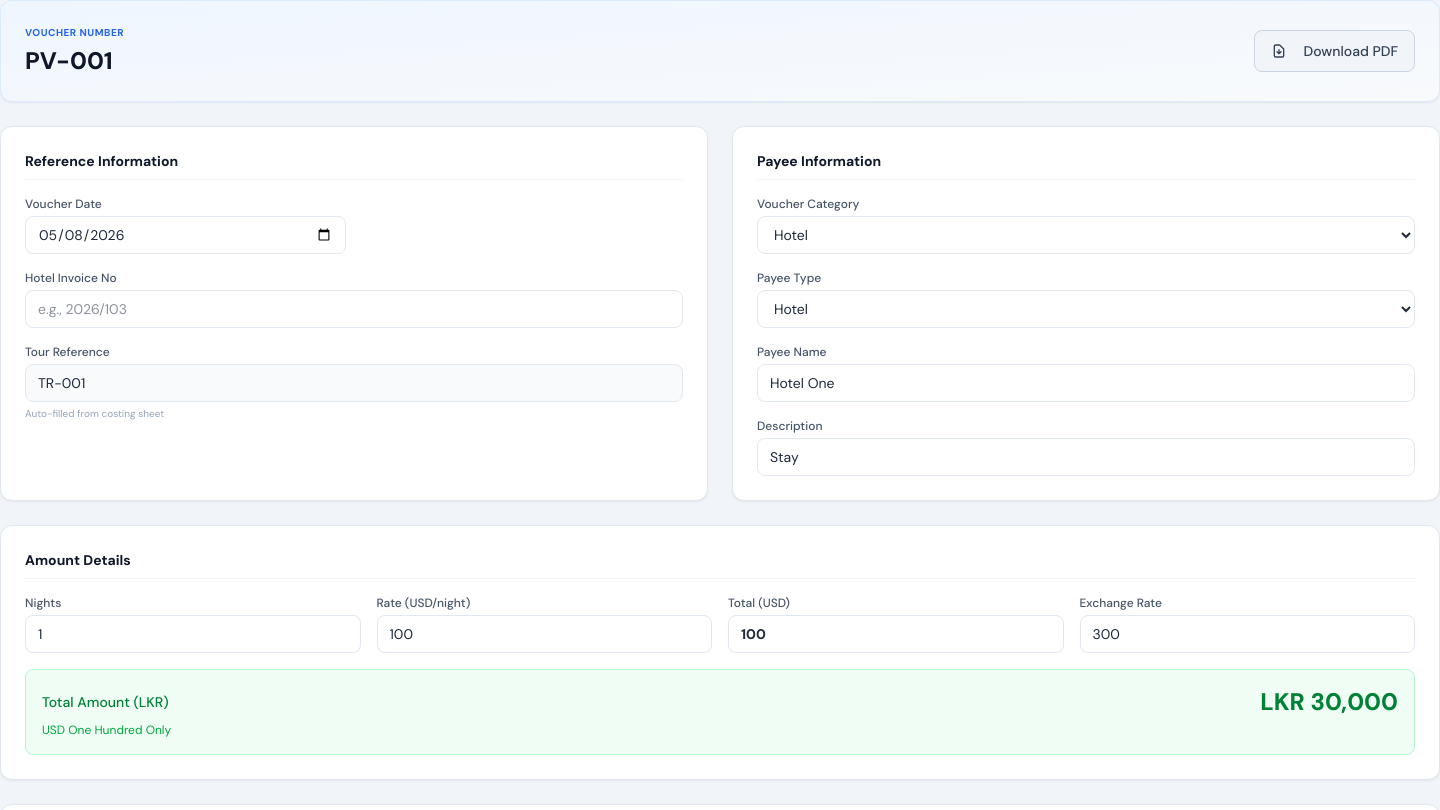
Test: PaymentVoucherForm › auto-calculates totals from nights and rate
Replace the text in the number field below "Nights" with "2": (193, 634) x1=25 y1=615 x2=360 y2=653
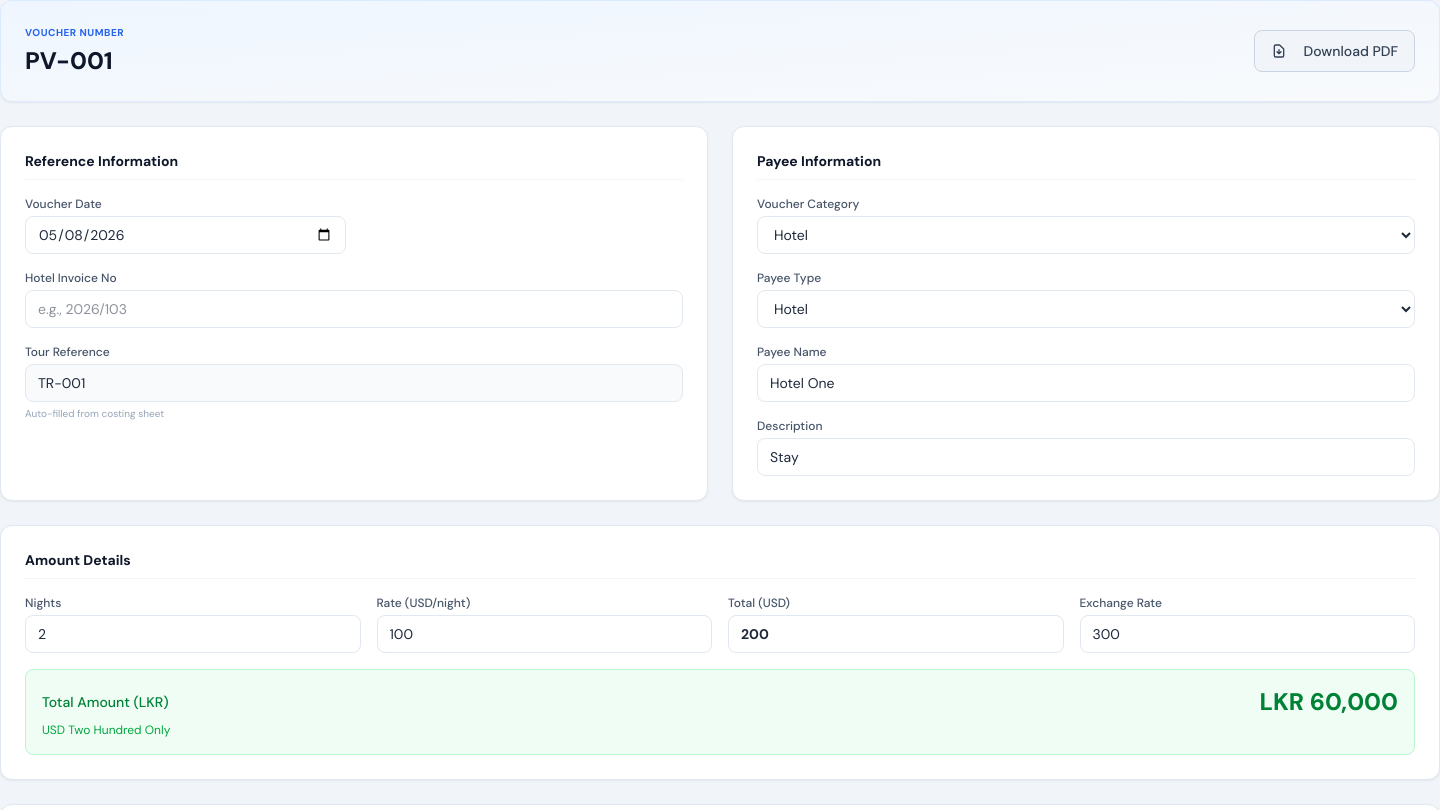
Replace the text in the number field below "Rate (USD/night)" with "150": (544, 634) x1=376 y1=615 x2=712 y2=653
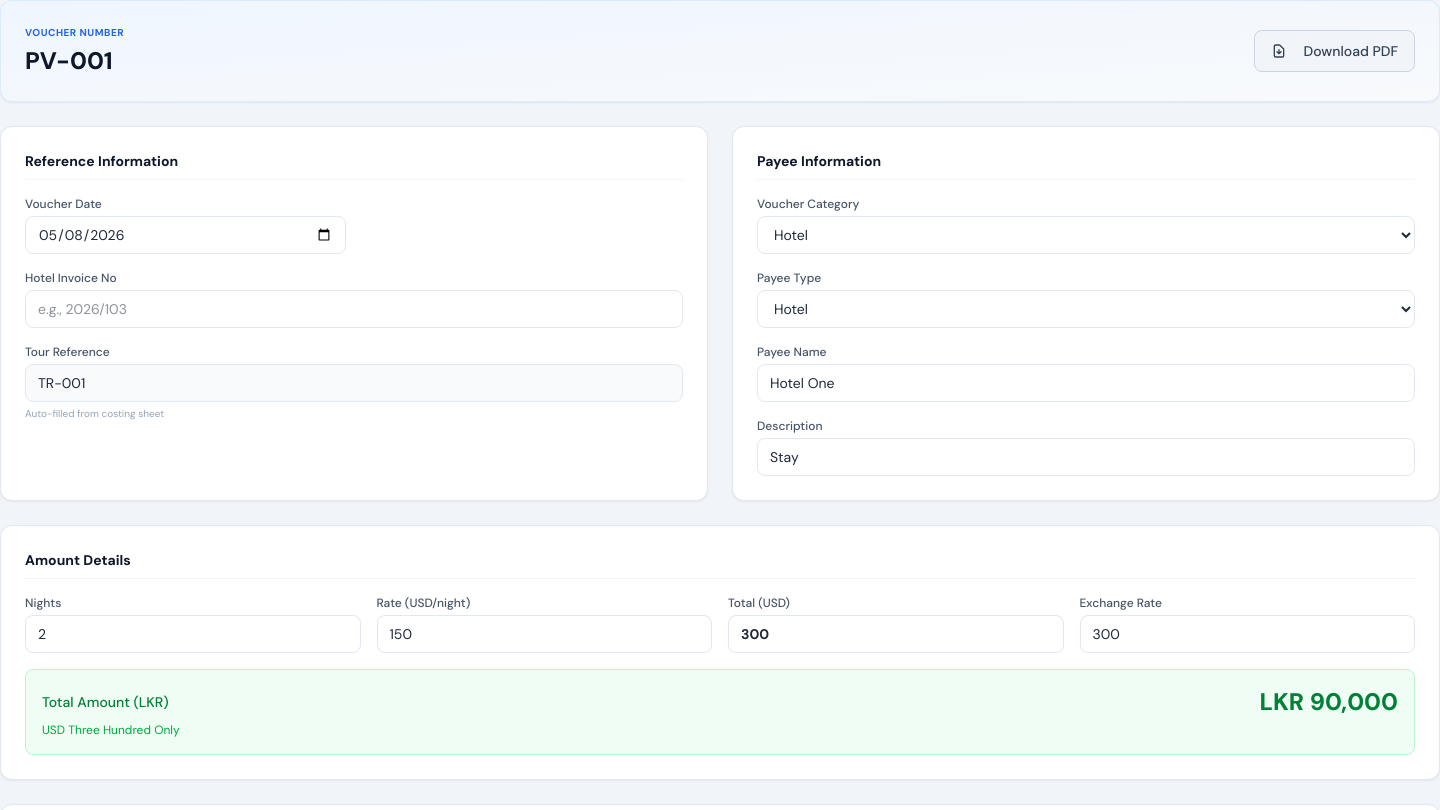
expect the number field below "Total (USD)" holds "300": met, box x1=728 y1=615 x2=1064 y2=653
expect the text "LKR 90,000" is shown: met, box x1=1260 y1=686 x2=1398 y2=718
